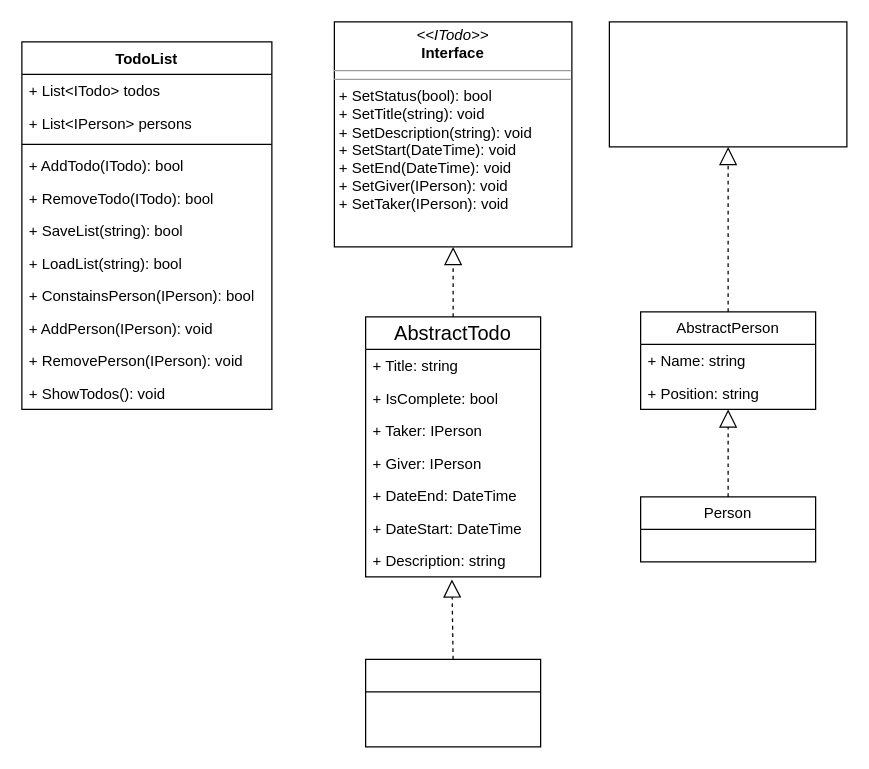
Some shapes in this 869 by 769 pixel diagram are drawn without their labels. The shapes that lost their labels are listed below. From the top down, each one's centre as x and y in pixels, then its label:
pixel 727 84: <<IPerson>> Interface + SetName(string): void + SetPostion(string): void
pixel 452 702: Todo
